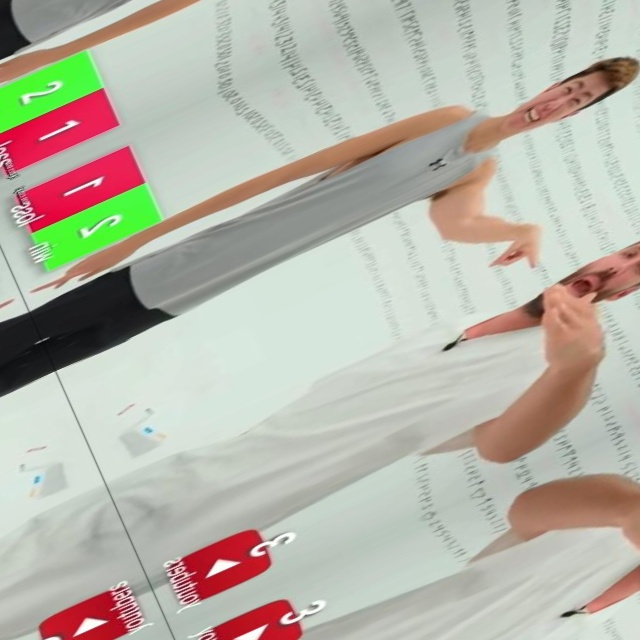Paper: (520, 267, 623, 374)
